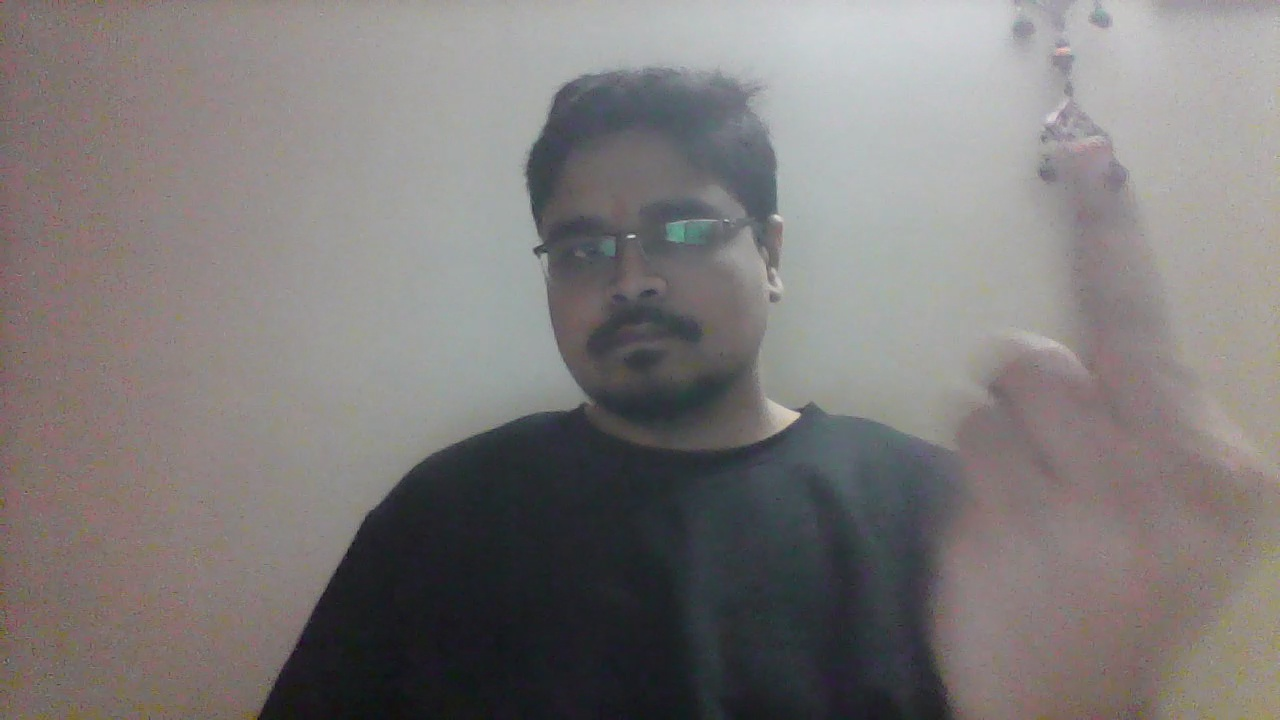Fuck Off: (944, 145, 1267, 706)
